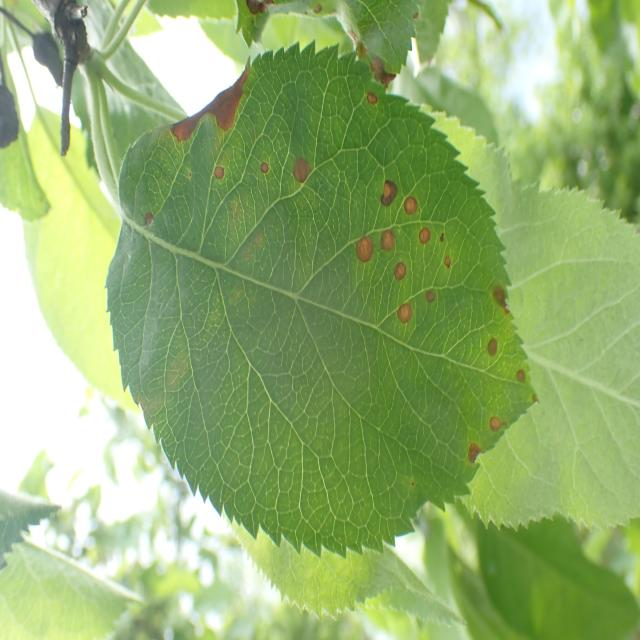frog-eye-leaf-spot: (105, 39, 539, 561), (234, 0, 423, 91)
